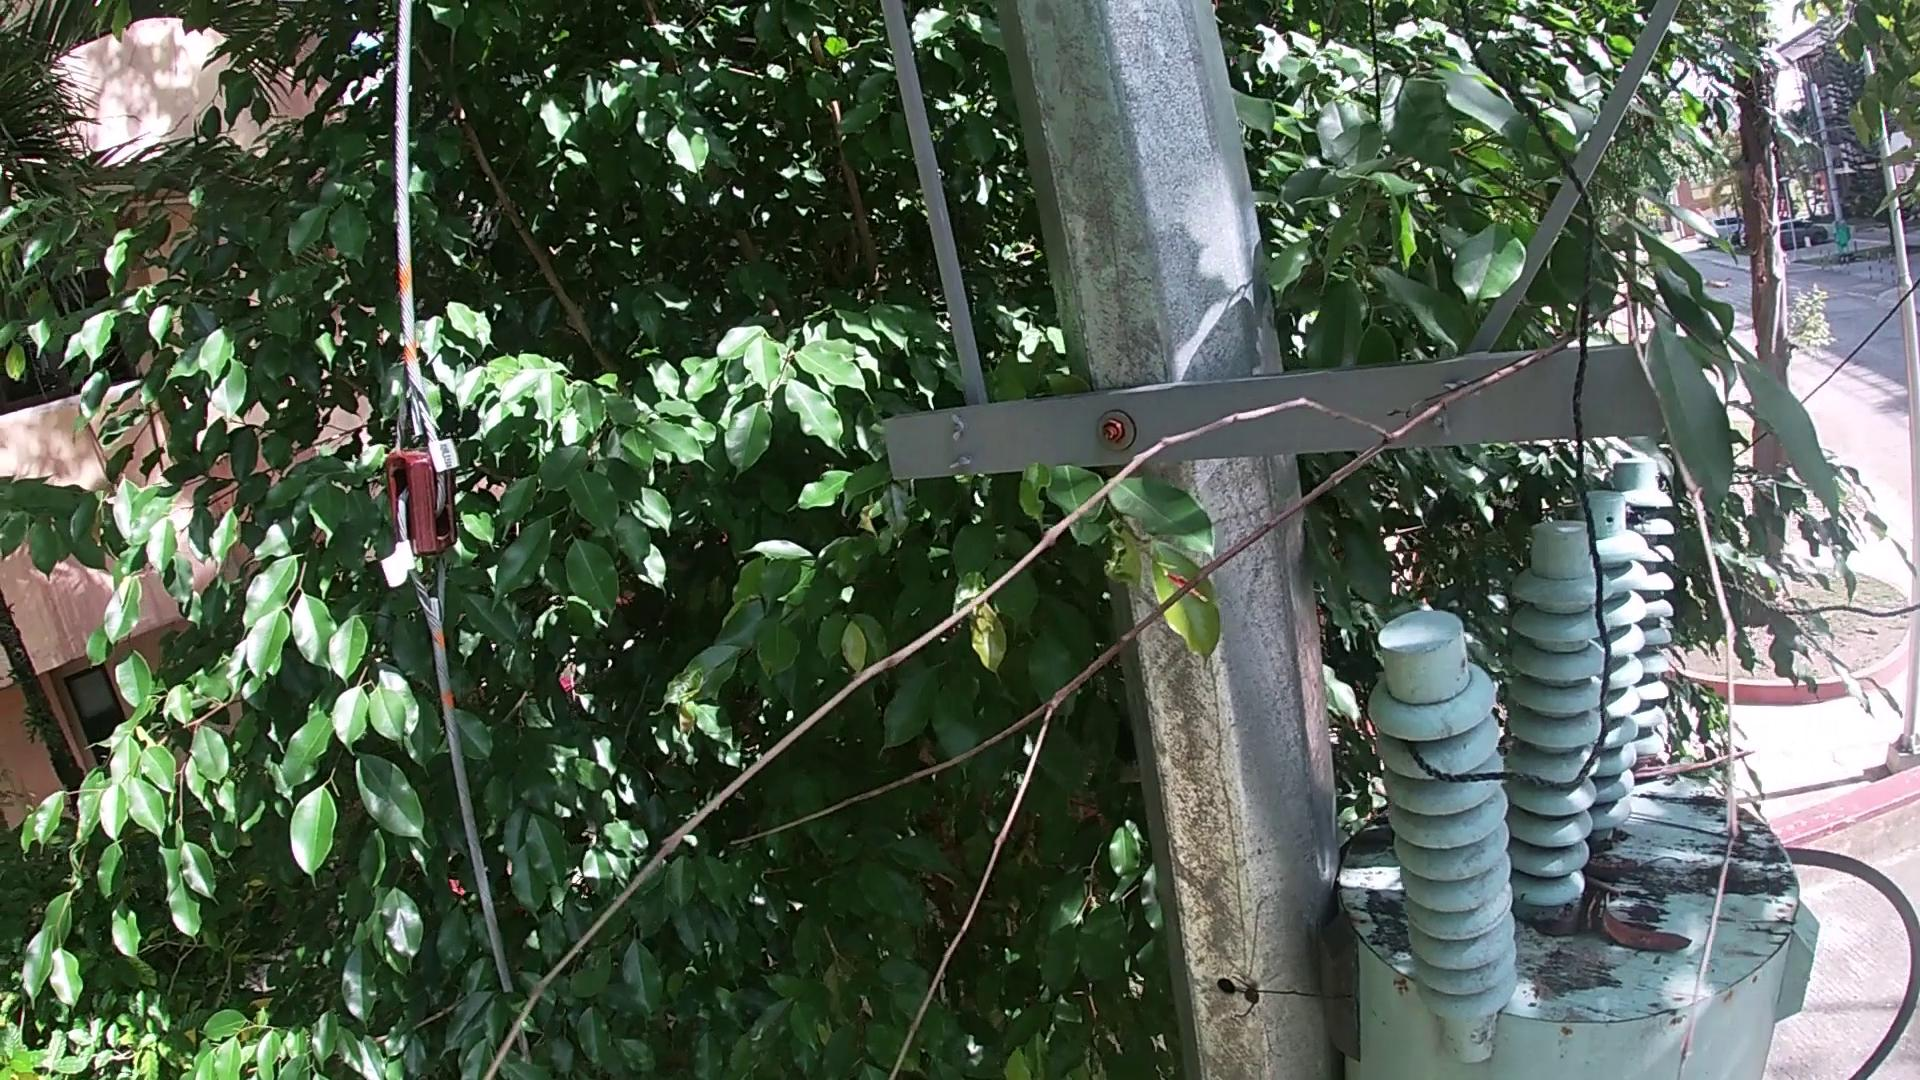mahogany fruit: (1604, 906, 1697, 955), (1581, 851, 1650, 884)
tree branch: (431, 264, 1756, 1068), (1626, 738, 1766, 781), (1629, 807, 1762, 847)
